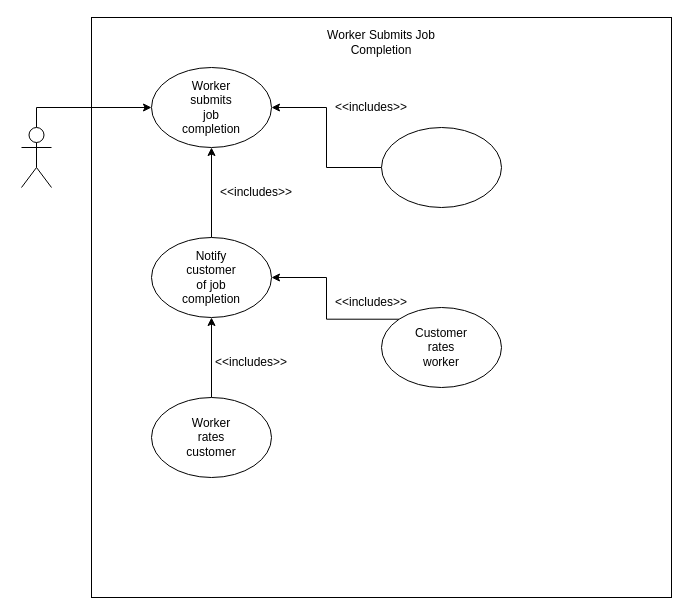
The diagram is 689 pixels wide and 615 high, and some of its shapes have lost their labels. The shapes that lost their labels are listed below. From the top down, each one's box as (x1, y1, x2, y2) in pixels, then its label:
(20, 126, 52, 188): Worker
(380, 126, 502, 208): Query assigned jobs
